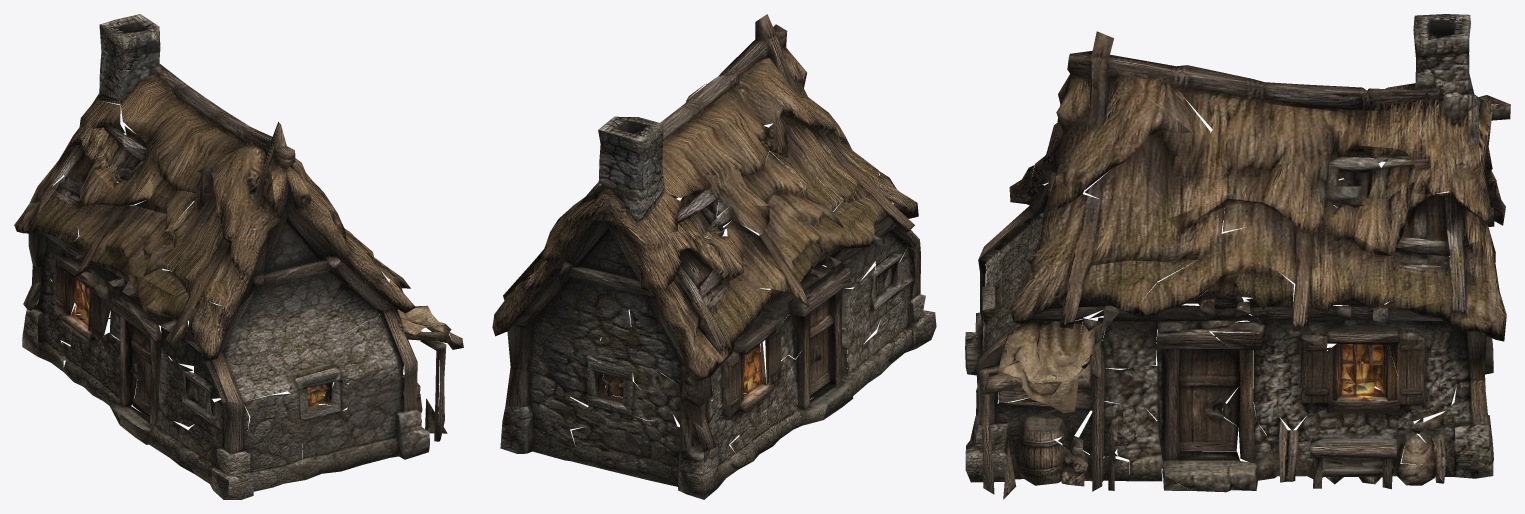
Rendered from house-b.glb.
3 renders of one model, left to right at view 1: azimuth 30°, elevation 25°; view 2: azimuth 150°, elevation 25°; view 3: azimuth 270°, elevation 25°, orthographic. The views are drawn at different scales.
Size of the model in its own units: 0.7015 by 0.7939 by 1.
Materials: 1 (1 with a texture image).
